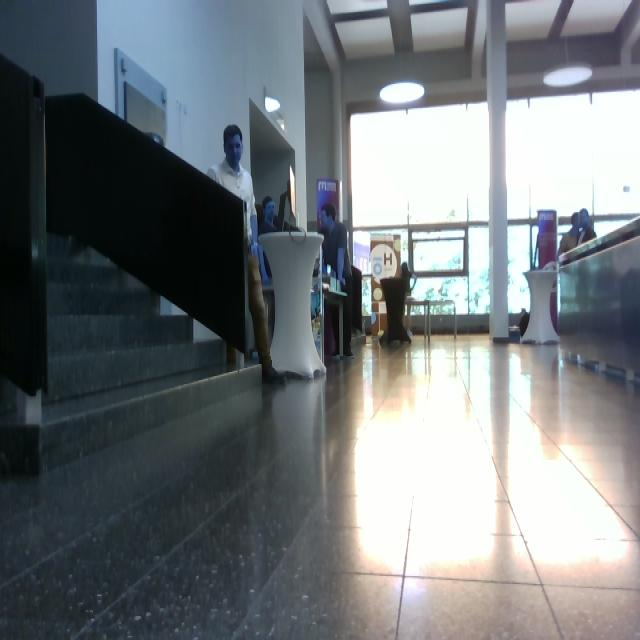light bulb: (543, 38, 593, 88), (543, 64, 593, 88), (379, 81, 425, 105), (265, 96, 281, 113)
person: (206, 124, 286, 385), (321, 204, 355, 358)
pillar: (258, 230, 327, 380), (485, 1, 510, 341)
tiled floor: (1, 331, 639, 639)
